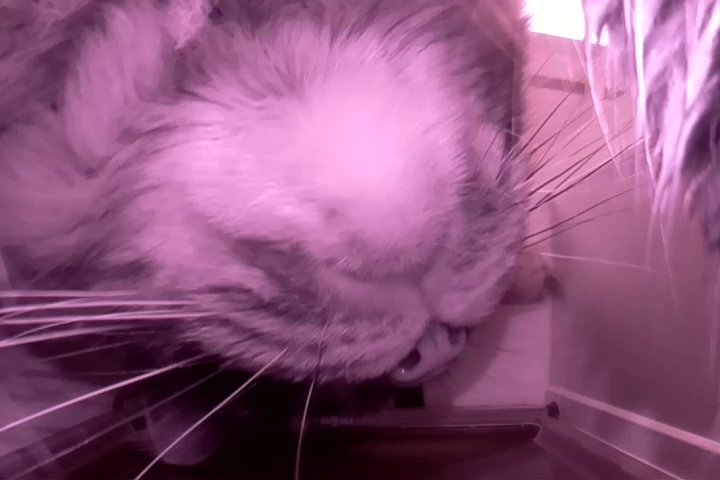Snout: (312, 218, 502, 386)
